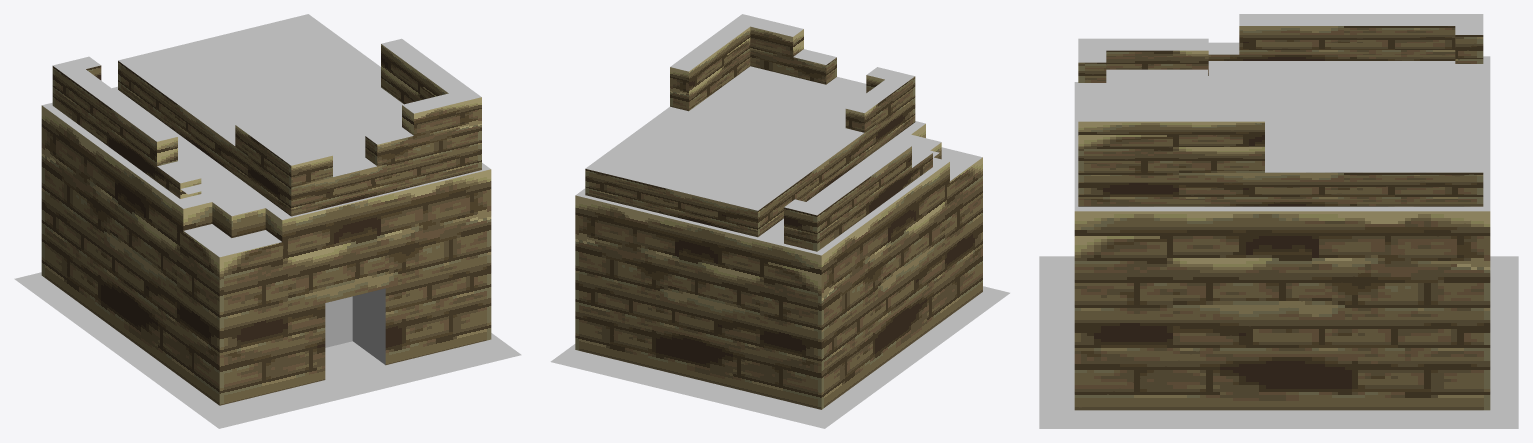
The model's file is r4_ruins_01.dae.
3 renders of one model, left to right at view 1: azimuth 30°, elevation 25°; view 2: azimuth 150°, elevation 25°; view 3: azimuth 270°, elevation 25°, orthographic. The views are drawn at different scales.
Visible parts, largest first — view 1: r4_ruins_01; view 2: r4_ruins_01; view 3: r4_ruins_01.
Boxes of the visible parts, x1,y1,x2,y2 form: r4_ruins_01: (14, 14, 521, 428); r4_ruins_01: (550, 14, 1009, 428); r4_ruins_01: (1039, 14, 1518, 428).
Bounding box in the file's own units: 116 × 92.05 × 136.
